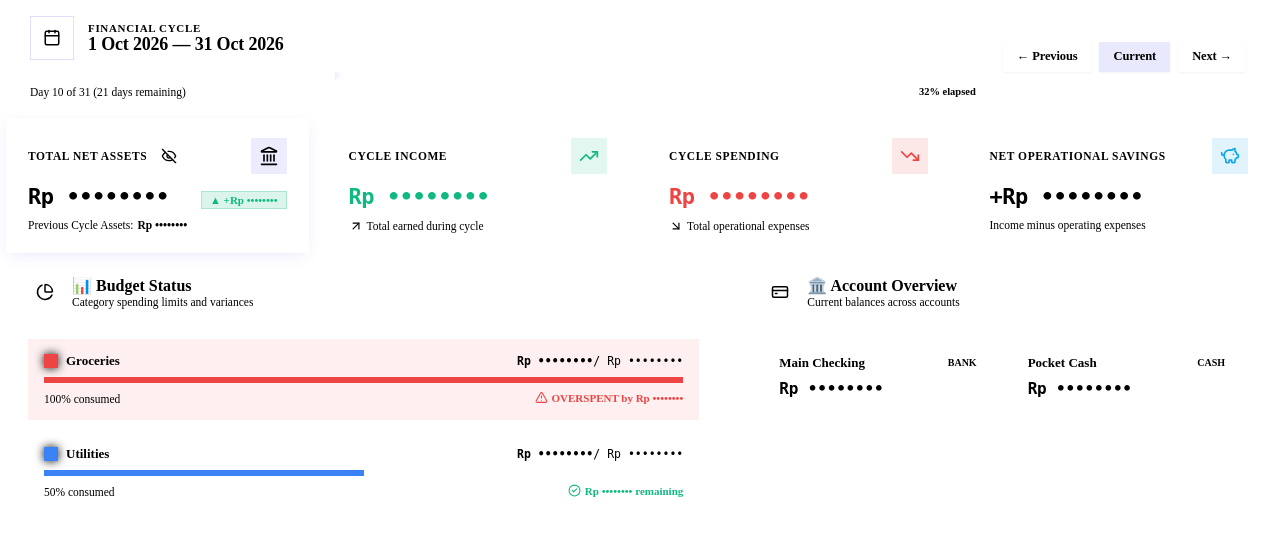
Test case: DashboardOverview Component › hides amounts by default and reveals on privacy toggle click
Expected: the text "Total Net Assets" is shown, [28,150,147,162]
Expected: the 1st text "Rp ••••••••" is shown, [28,184,169,209]
# Find and click the toggle button
Click the button named "Show Amounts" at (169, 156), box [155,142,183,170]
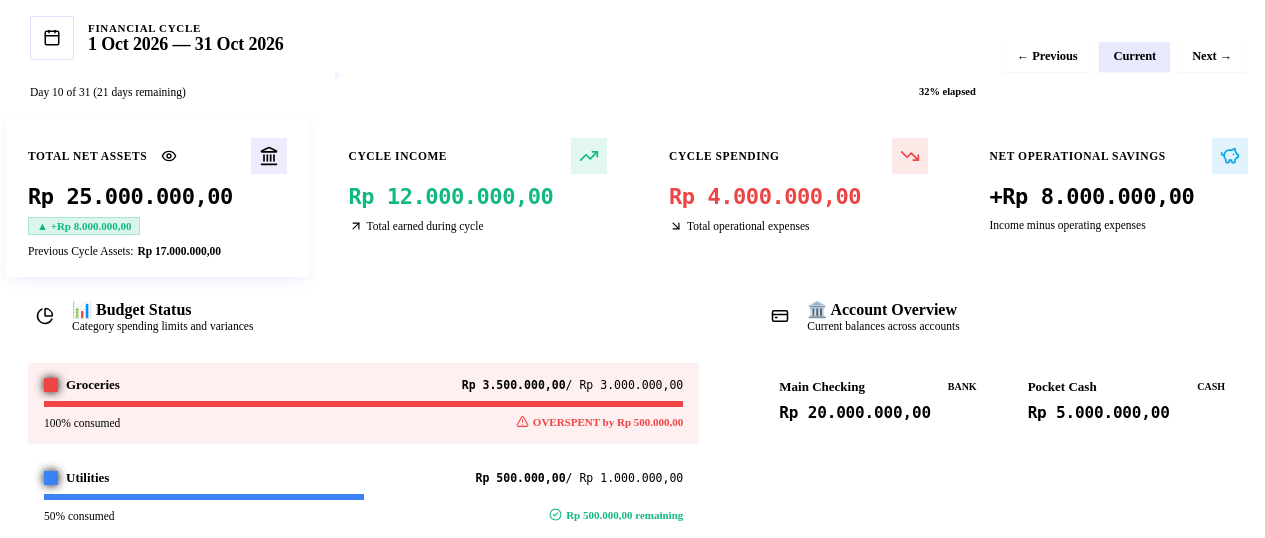
Expected: the text "Rp 25.000.000,00" is shown, [28,184,233,209]
# Toggle back to hidden
Click the button named "Hide Amounts" at (169, 156), box [155,142,183,170]
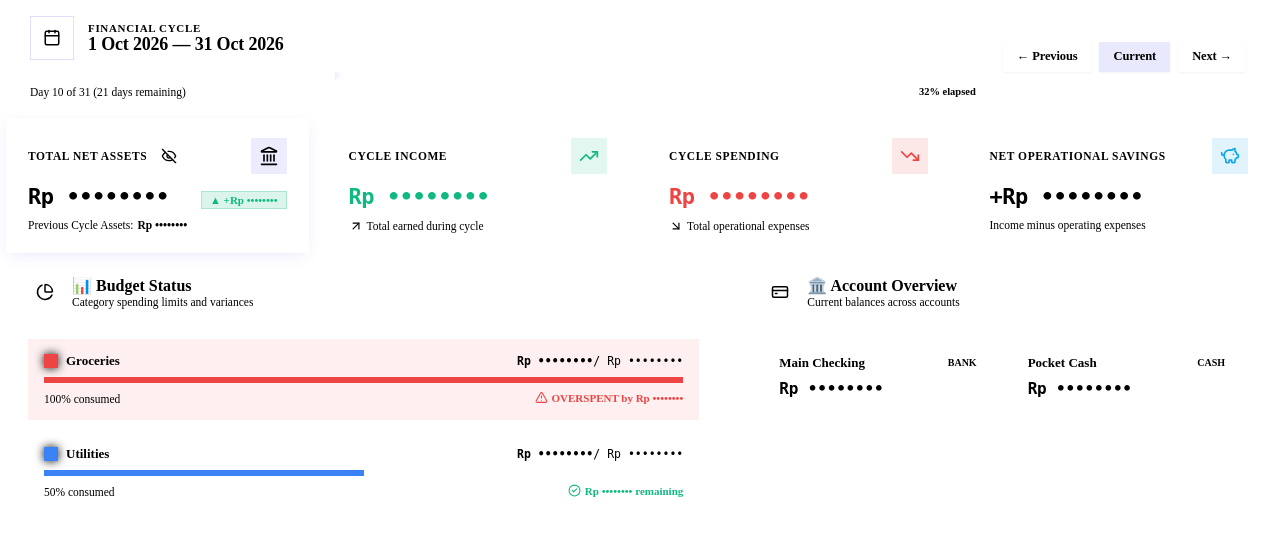
Expected: the 1st text "Rp ••••••••" is shown, [28,184,169,209]
Expected: the text "Rp 25.000.000,00" is gone
